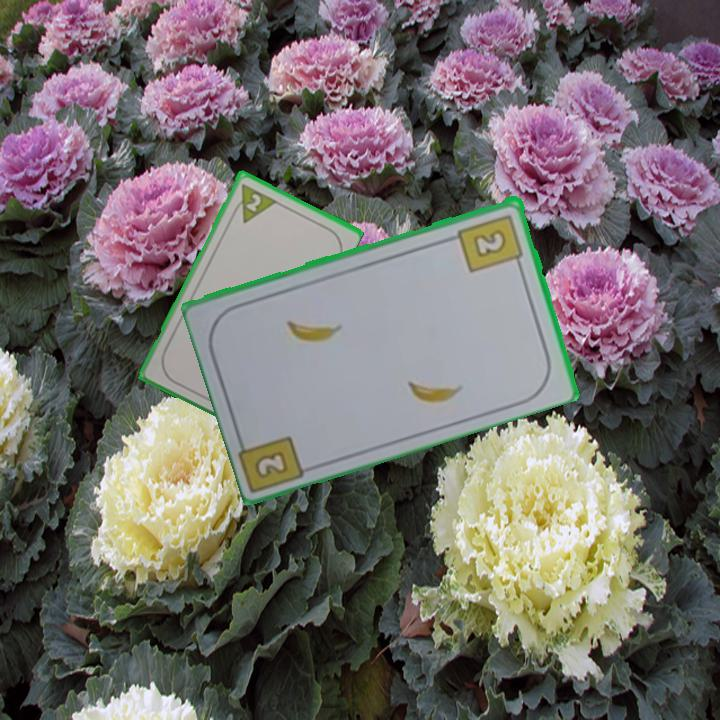2b: (455, 210, 527, 275), (254, 450, 288, 478)
2p: (242, 189, 264, 214)
